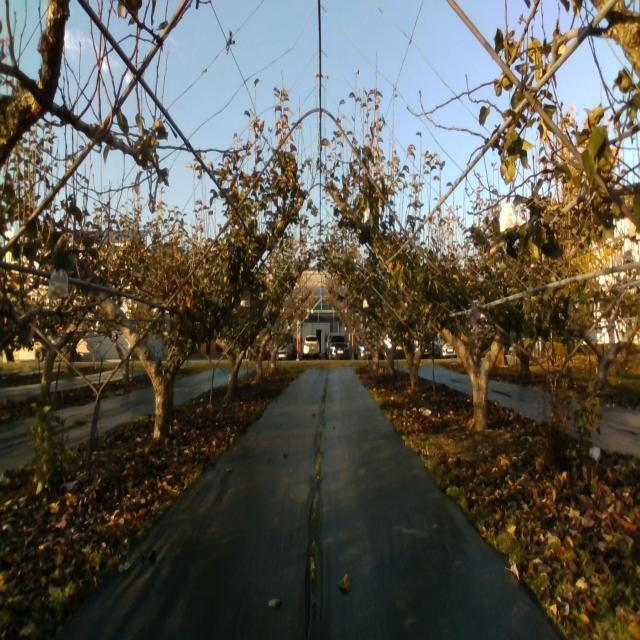pearbags: (499, 203, 521, 234), (48, 270, 69, 300)
